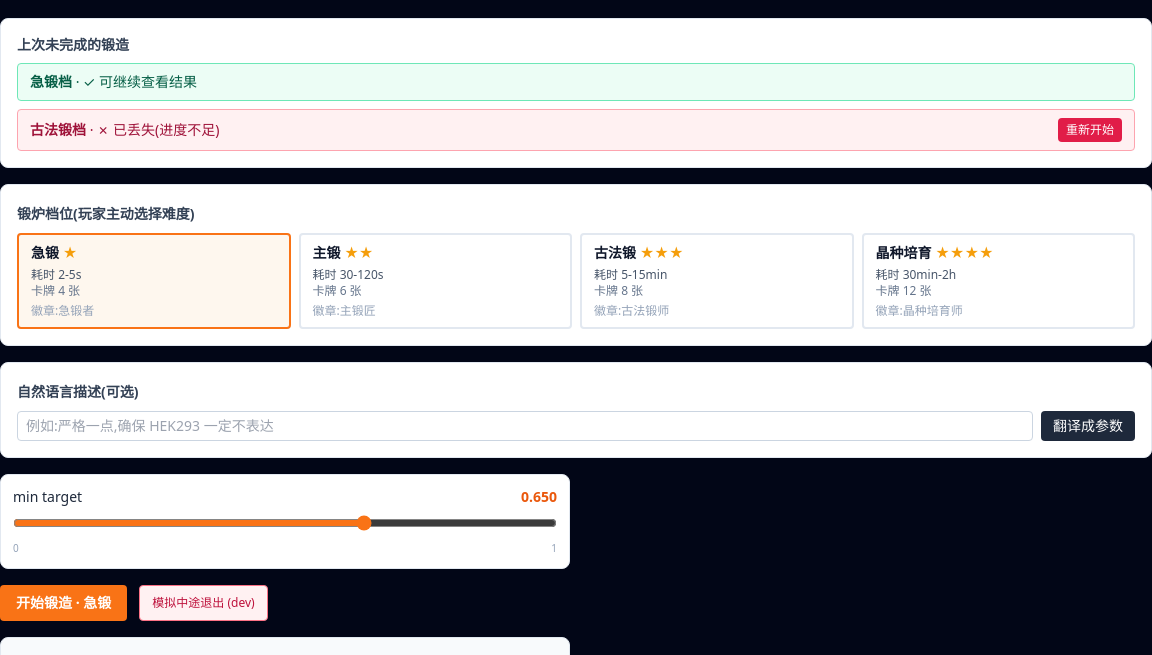
Scenario: ForgePage · error banner (Phase 3 Task 6 P0-A2) › shows multiple error items when there are multiple errors
Expected: the element with test id "ritual-selector" is shown, [0,184,1151,346]
What coordinates should you click on to do the following:
click the button with test id "forge-run"
I would click on:
 (64, 603)
Its box is [0,585,127,621].
(page scrolled)
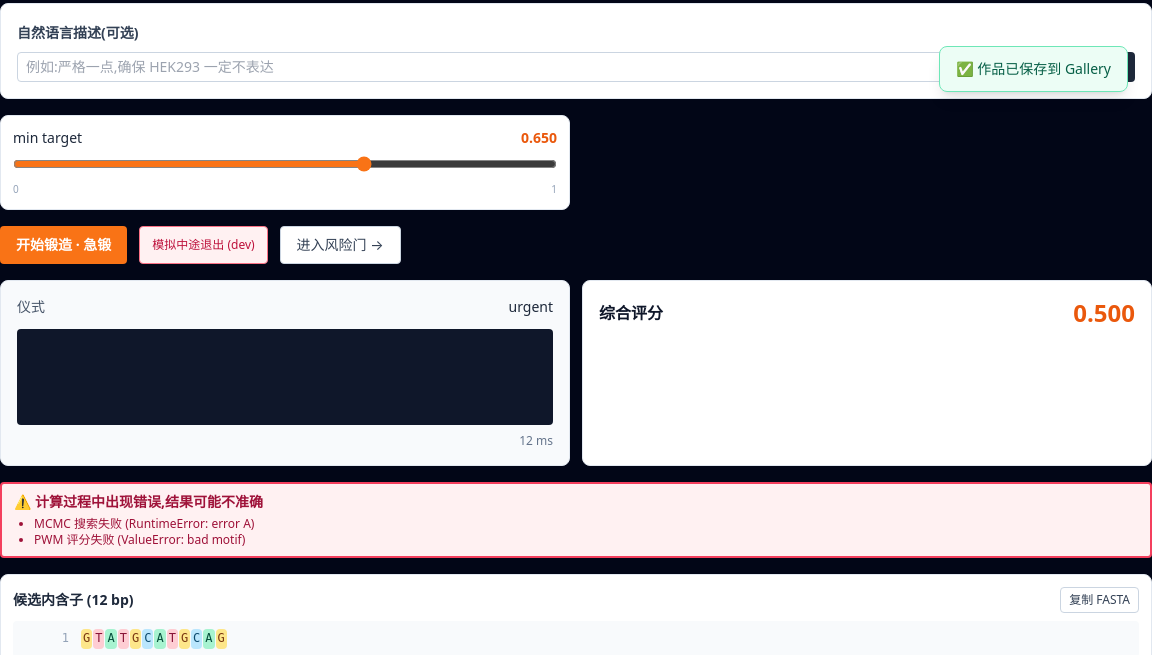
Expected: the message with test id "forge-error-banner" is shown, [0,482,1151,558]
Expected: the number of list items with test id "forge-error-item" is 2, [34,515,254,532]; [34,531,245,548]
Expected: the list item with test id "forge-error-item" shows "error A", [34,515,254,532]
